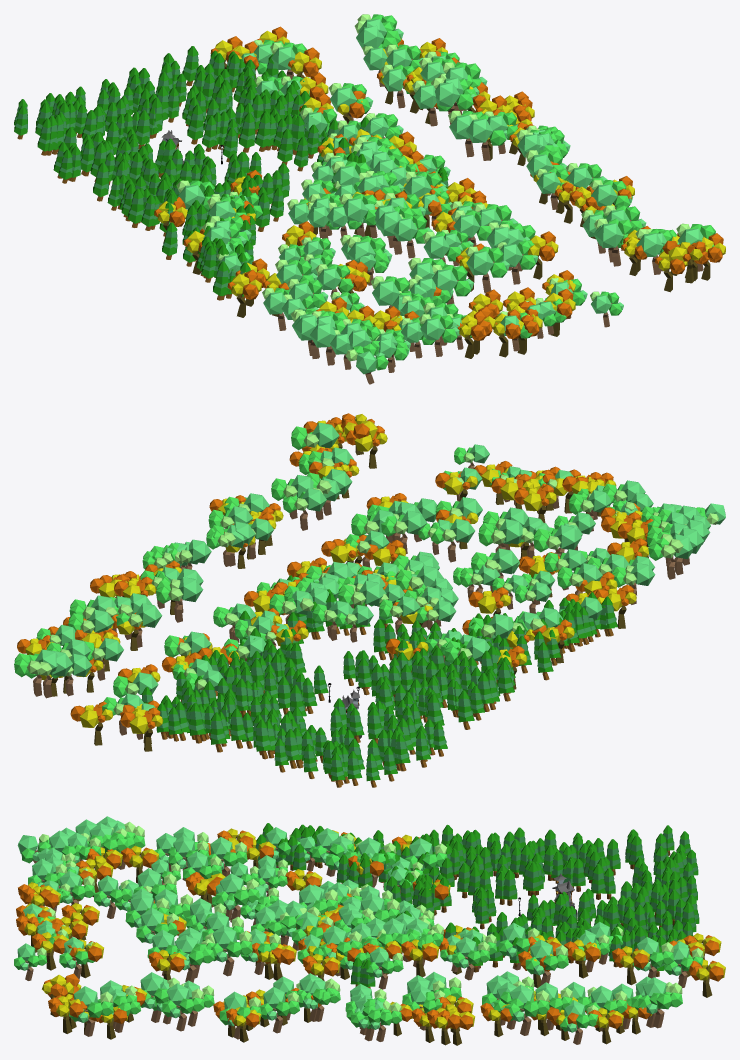
The model's file is top.gltf.
The picture shows the model from 3 angles, top to bottom: view 1: azimuth 30°, elevation 25°; view 2: azimuth 150°, elevation 25°; view 3: azimuth 270°, elevation 25°; orthographic projection. The views are drawn at different scales.
Visible parts, largest first — view 1: tree 1.065, tree 1.051, tree 1.101, tree 1.029, tree 1.108, tree 1.050, tree 1.112, tree 1.082, tree 1, tree 1.060, tree 1.031, tree 2 (+45 smaller); view 2: tree 1.104, tree 1.031, tree 1.122, tree 1.127, tree 2.001, tree 1.047, tree 1.072, tree 2.002, tree 1.056, tree 2.023, tree 1.103, tree 1.059 (+46 smaller); view 3: tree 1.093, tree 1.122, tree 1.126, tree 1.114, tree 1.037, tree 1.100, tree 1.127, tree 1.123, tree 1.097, tree 1.065, tree 1.033, tree 1.092 (+97 smaller).
Boxes of the visible parts, x1,y1,x2,y2 form: tree 1.065: (465, 246, 509, 293); tree 1.051: (432, 264, 473, 304); tree 1.101: (594, 218, 633, 266); tree 1.029: (419, 314, 459, 356); tree 1.108: (466, 114, 507, 160); tree 1.050: (339, 193, 377, 236); tree 1.112: (431, 77, 475, 124); tree 1.082: (497, 240, 538, 284); tree 1: (345, 343, 388, 384); tree 1.060: (393, 214, 432, 258); tree 1.031: (370, 276, 412, 307); tree 2: (662, 240, 705, 283); tree 1.104: (156, 577, 203, 622); tree 1.031: (533, 525, 581, 556); tree 1.122: (14, 649, 57, 696); tree 1.127: (291, 422, 339, 450); tree 2.001: (120, 707, 163, 751); tree 1.047: (478, 519, 522, 550); tree 1.072: (381, 510, 426, 553); tree 2.002: (70, 701, 113, 745); tree 1.056: (431, 519, 475, 562); tree 2.023: (514, 484, 556, 522); tree 1.103: (282, 488, 326, 530); tree 1.059: (338, 580, 386, 606); tree 1.093: (211, 925, 252, 976); tree 1.122: (638, 977, 682, 1028); tree 1.126: (505, 984, 549, 1035); tree 1.114: (162, 983, 204, 1031); tree 1.037: (215, 873, 259, 922); tree 1.100: (525, 940, 568, 985); tree 1.127: (69, 986, 113, 1036); tree 1.123: (259, 986, 299, 1033); tree 1.097: (452, 937, 490, 980); tree 1.065: (136, 908, 179, 943); tree 1.033: (94, 875, 131, 918); tree 1.092: (171, 935, 214, 982).
Bounding box in the file's own units: 26.73 × 3.79 × 40.99.
